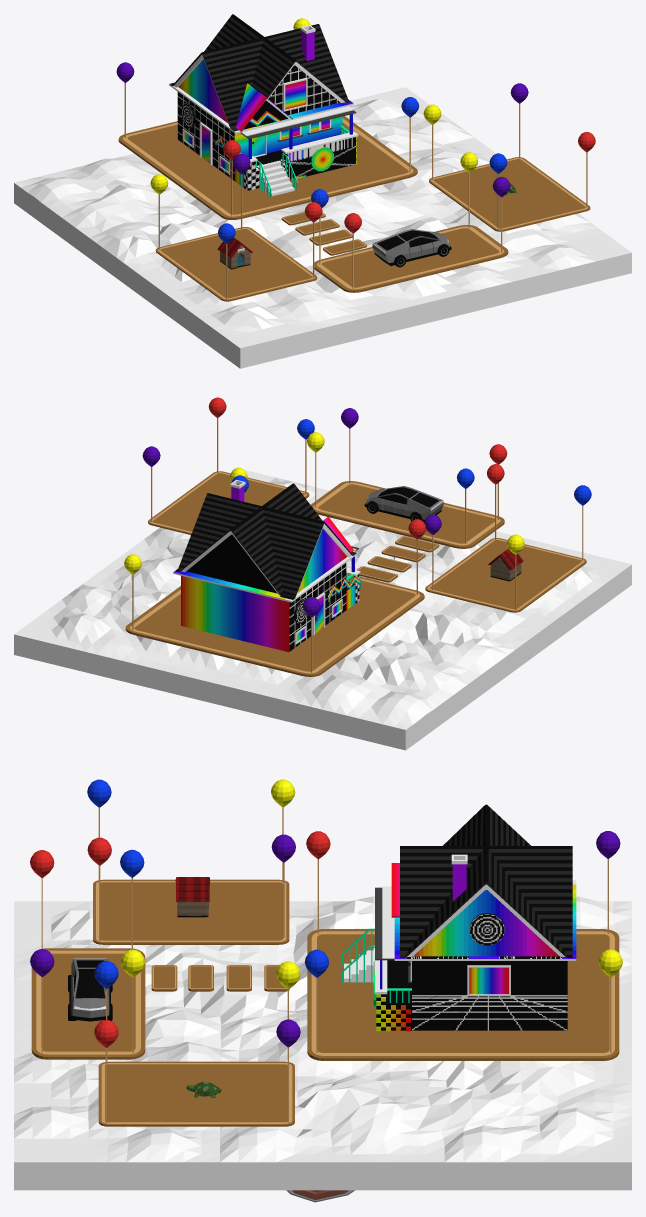
3 views of the same model, one above another, from view 1: azimuth 30°, elevation 25°; view 2: azimuth 150°, elevation 25°; view 3: azimuth 270°, elevation 25° (orthographic). The views are drawn at different scales.
Parts seen in each view (by area): view 1: Cube.013, Cube.1320, VEHICLES_CYBERTRUCK, OBJRANDOM_DOGHOUSE; view 2: Cube.013, Cube.1320, VEHICLES_CYBERTRUCK, OBJRANDOM_DOGHOUSE; view 3: Cube.013, Cube.1320, VEHICLES_CYBERTRUCK, OBJRANDOM_DOGHOUSE.
Boxes of the visible parts, x1,y1,x2,y2 form: Cube.013: (14,18,631,368); Cube.1320: (169,14,358,197); VEHICLES_CYBERTRUCK: (372,229,451,267); OBJRANDOM_DOGHOUSE: (217,237,252,269); Cube.013: (14,397,631,750); Cube.1320: (173,480,361,652); VEHICLES_CYBERTRUCK: (364,486,443,522); OBJRANDOM_DOGHOUSE: (488,548,523,581); Cube.013: (14,779,631,1190); Cube.1320: (341,804,576,1031); VEHICLES_CYBERTRUCK: (68,958,112,1021); OBJRANDOM_DOGHOUSE: (175,877,209,917).
Bounding box in the file's own units: 4000 × 2404 × 4000.
39 materials, 3 textured.
